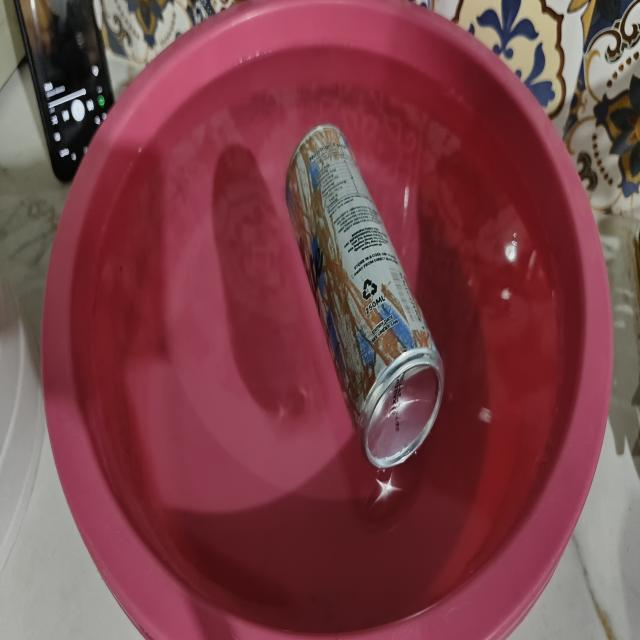Aluminum Can: (270, 89, 461, 517)
